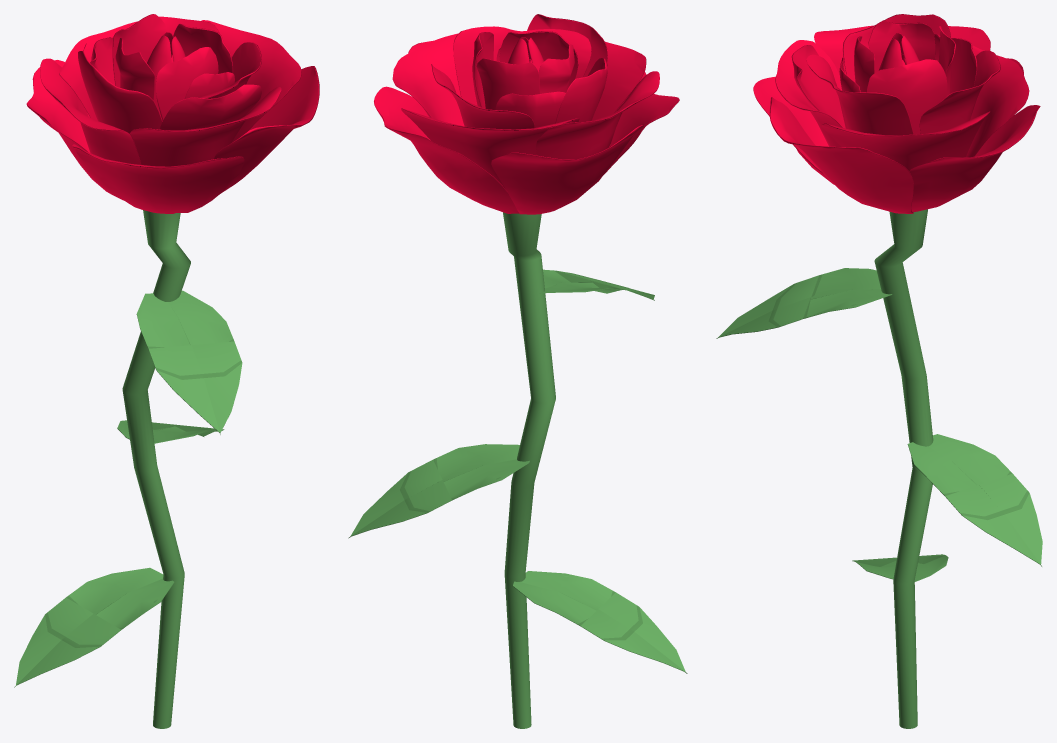
Rendered from roseFull.fbx.
The picture shows the model from 3 angles, left to right: view 1: azimuth 30°, elevation 25°; view 2: azimuth 150°, elevation 25°; view 3: azimuth 270°, elevation 25°; orthographic projection.
Visible parts, largest first — view 1: root, pCylinder1, pCube1, pCube2, pasted__pCube1; view 2: root, pCylinder1, pCube2, pasted__pCube1, pCube1; view 3: root, pCylinder1, pasted__pCube1, pCube1, pCube2.
Part boxes in pixels (x1,y1,x2,y2): root: [26, 14, 319, 213]; pCylinder1: [122, 210, 190, 728]; pCube1: [136, 290, 242, 434]; pCube2: [14, 567, 174, 687]; pasted__pCube1: [117, 420, 224, 443]; root: [374, 14, 679, 214]; pCylinder1: [503, 212, 555, 728]; pCube2: [513, 571, 687, 673]; pasted__pCube1: [348, 444, 529, 538]; pCube1: [539, 269, 654, 300]; root: [753, 14, 1040, 213]; pCylinder1: [874, 209, 933, 728]; pasted__pCube1: [907, 434, 1042, 566]; pCube1: [716, 268, 892, 338]; pCube2: [852, 554, 948, 581].
Size of the model in its own units: 1.92 by 4.39 by 1.88.
